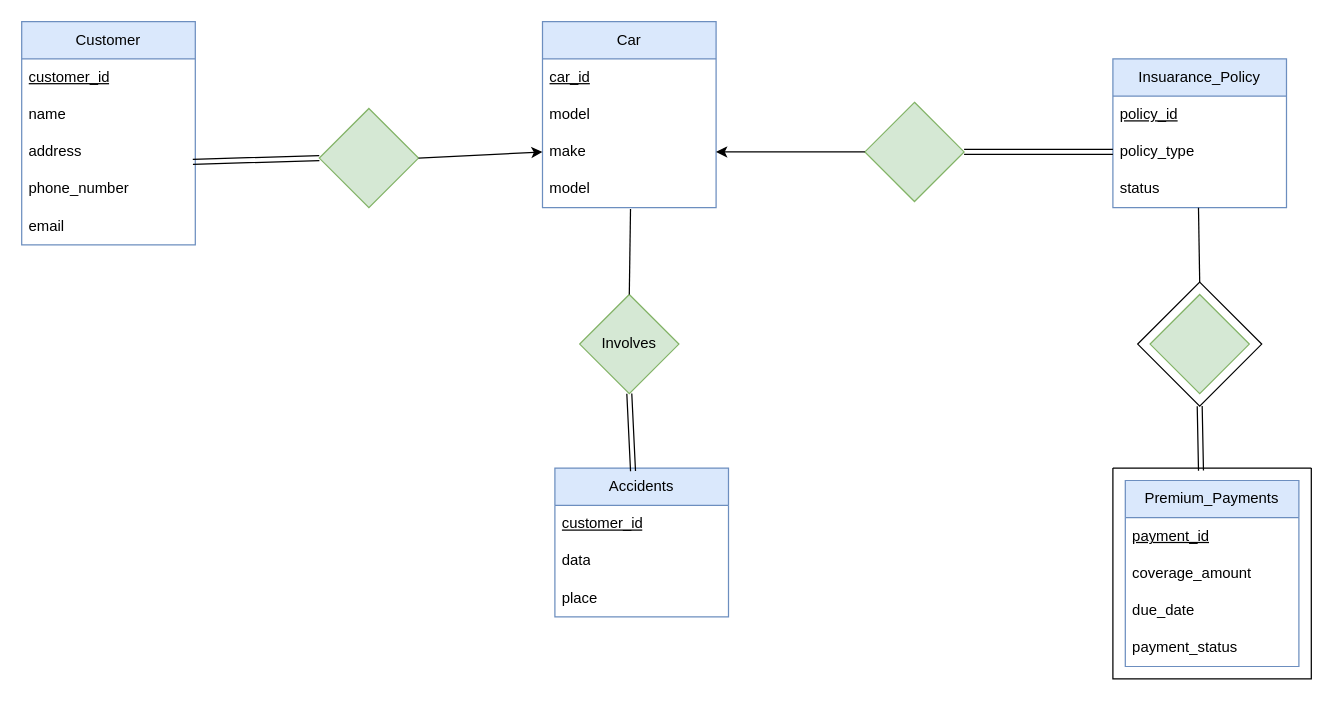
Some shapes in this 1333 by 701 pixel diagram are drawn without their labels. Here are the shapes that lost their labels. From the top down, the centre of each, then its label:
(x=368, y=157): Owns
(x=914, y=151): Covers
(x=1199, y=343): Has
